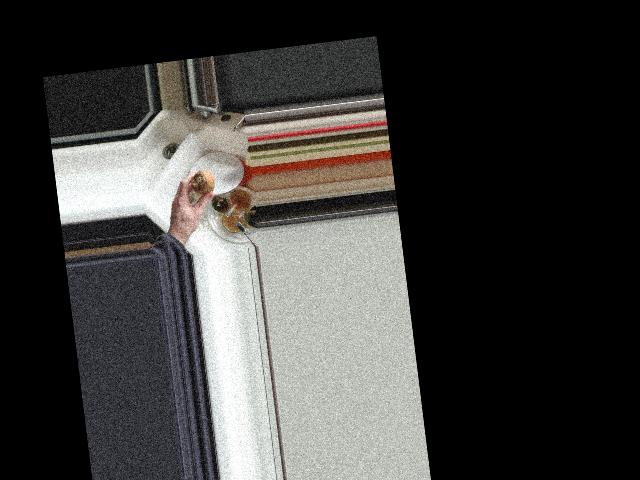sweet_potato: (188, 167, 217, 202)
